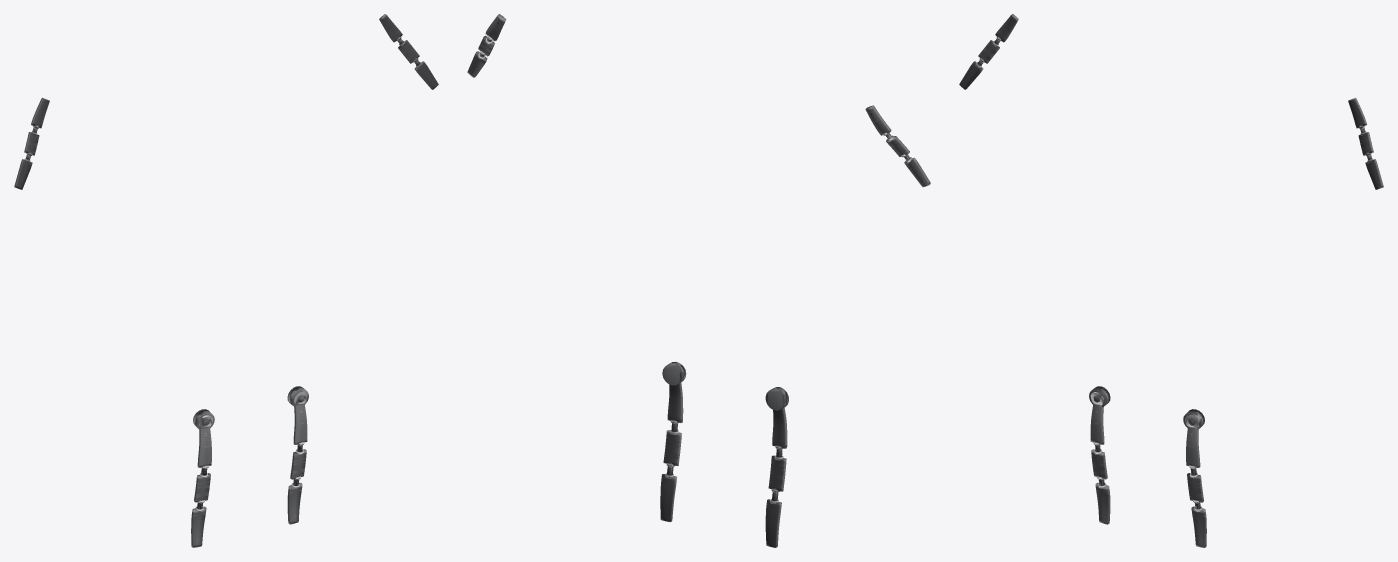
File: tn9_tungsten_cores.gltf
3 views of the same model, side by side, from view 1: azimuth 30°, elevation 25°; view 2: azimuth 150°, elevation 25°; view 3: azimuth 330°, elevation 25° (orthographic). The views are drawn at different scales.
Parts seen in each view (by area): view 1: B_shin_R__tn9_tungsten_cores, B_shin_L__tn9_tungsten_cores, B_forearm_L__tn9_tungsten_cores, B_forearm_R__tn9_tungsten_cores; view 2: B_shin_L__tn9_tungsten_cores, B_shin_R__tn9_tungsten_cores, B_forearm_R__tn9_tungsten_cores, B_forearm_L__tn9_tungsten_cores; view 3: B_shin_L__tn9_tungsten_cores, B_shin_R__tn9_tungsten_cores, B_forearm_R__tn9_tungsten_cores, B_forearm_L__tn9_tungsten_cores.
Part boxes in pixels (x1,y1,x2,y2): B_shin_R__tn9_tungsten_cores: (191, 409, 214, 547); B_shin_L__tn9_tungsten_cores: (287, 386, 308, 524); B_forearm_L__tn9_tungsten_cores: (379, 14, 438, 89); B_forearm_R__tn9_tungsten_cores: (14, 97, 49, 189); B_shin_L__tn9_tungsten_cores: (660, 362, 686, 521); B_shin_R__tn9_tungsten_cores: (765, 387, 788, 547); B_forearm_R__tn9_tungsten_cores: (865, 105, 930, 187); B_forearm_L__tn9_tungsten_cores: (467, 14, 506, 77); B_shin_L__tn9_tungsten_cores: (1183, 409, 1206, 547); B_shin_R__tn9_tungsten_cores: (1089, 386, 1110, 524); B_forearm_R__tn9_tungsten_cores: (959, 14, 1018, 89); B_forearm_L__tn9_tungsten_cores: (1348, 97, 1383, 189).
Size of the model in its own units: 1.01 by 1.03 by 0.1695.
Materials: 1 (1 with a texture image).
